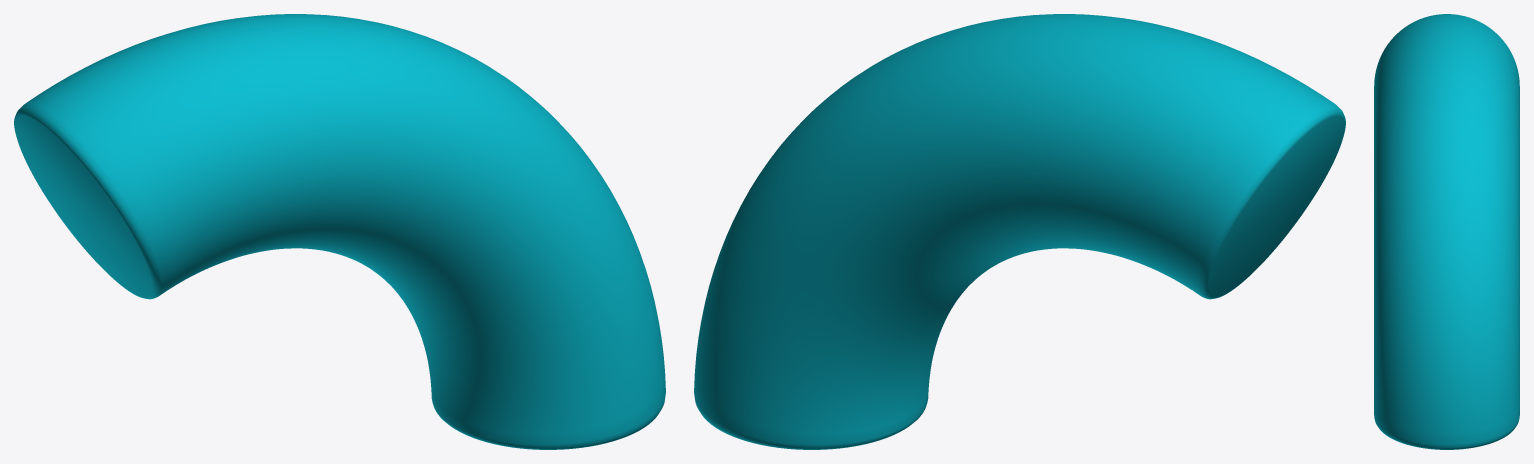
Rendered from demo.obj.
3 views of the same model, side by side, from view 1: azimuth 30°, elevation 25°; view 2: azimuth 150°, elevation 25°; view 3: azimuth 270°, elevation 25° (orthographic). The views are drawn at different scales.
Parts seen in each view (by area): view 1: ???; view 2: ???; view 3: ???.
Boxes of the visible parts, x1,y1,x2,y2 form: ???: (14,14,665,449); ???: (694,14,1345,449); ???: (1374,14,1519,449).
Size of the model in its own units: 299 by 211 by 100.
